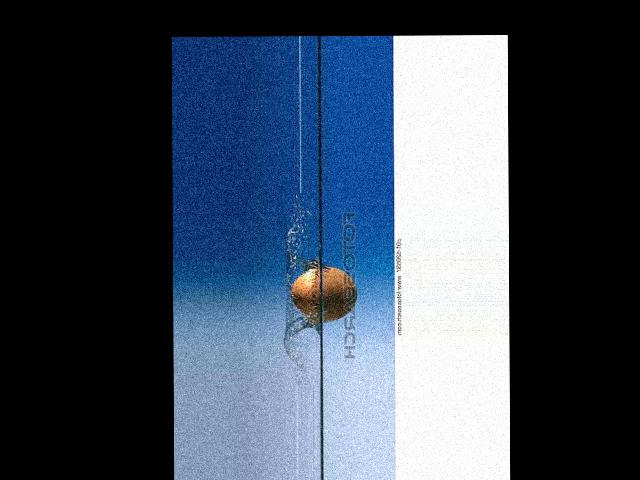egg: (290, 266, 356, 321)
